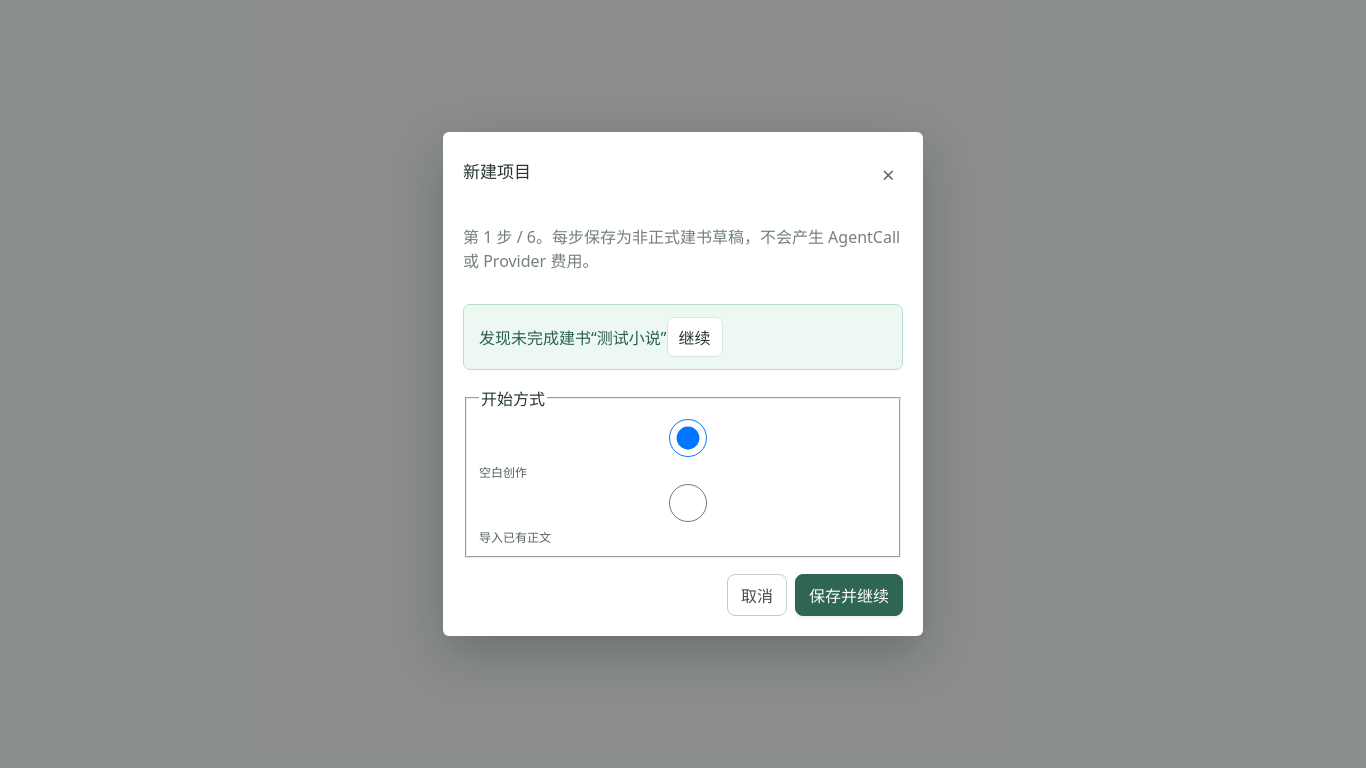
Test: project setup import › restores legacy automatic drafts as unselected without picking a default card
Later steps or results of the test are not shown.
Click the button "继续" at (694, 337), box [666, 317, 722, 357]
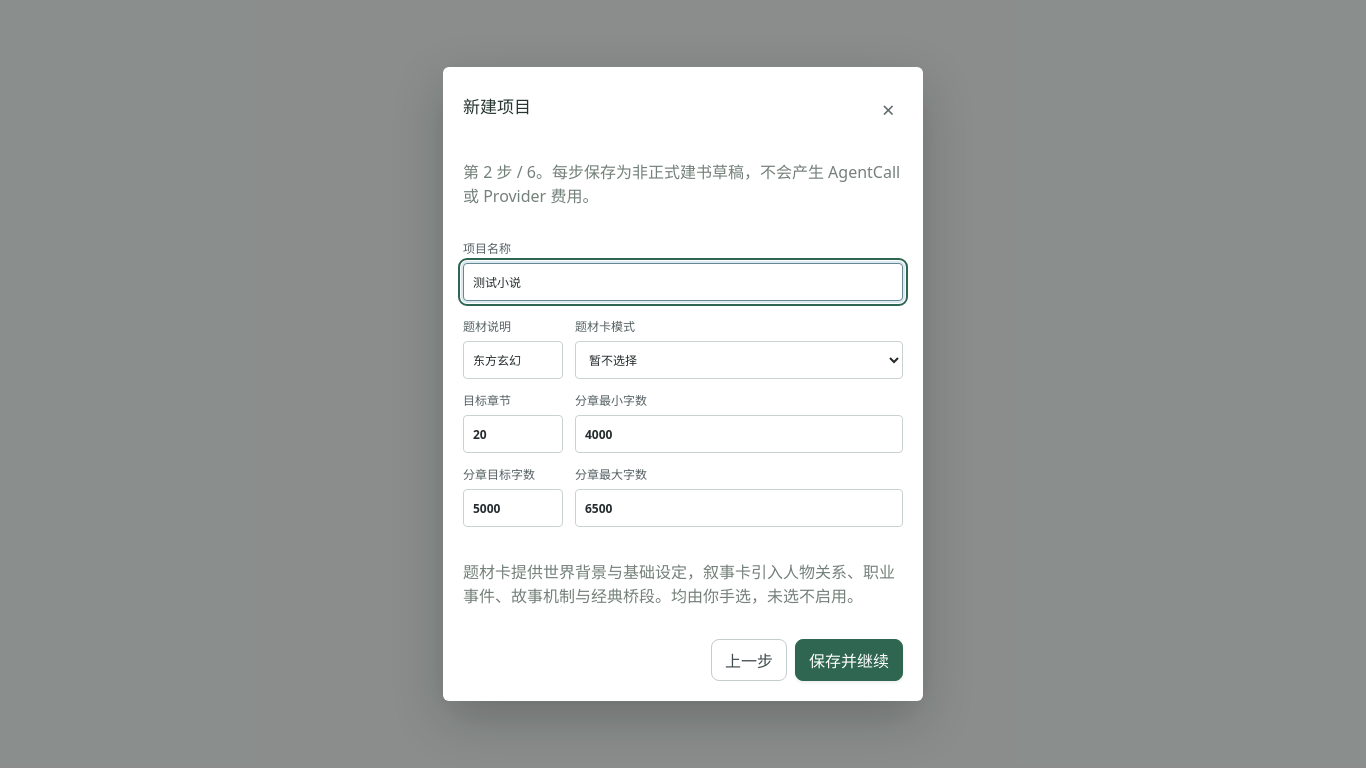
Now the dropdown labelled "题材卡模式" shows "暂不选择", box [575, 341, 903, 379]
